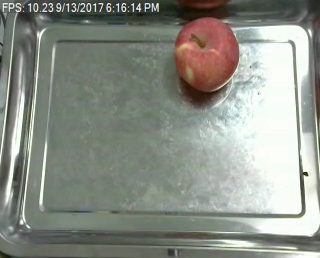Apple: (174, 15, 239, 92)
